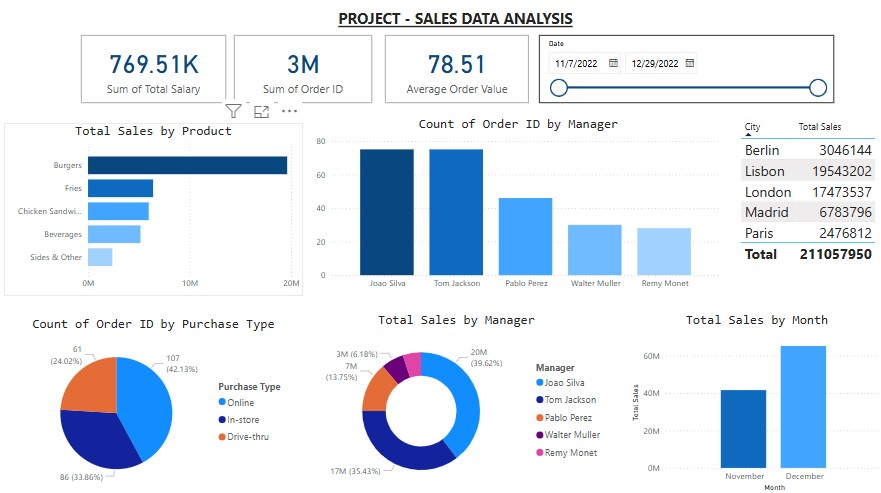

This screenshot's page, from the dashboard's own definition file:
{"tool":"powerbi","page":{"name":"Page 1","canvas":[1280,720],"ordinal":0},"visuals":[{"type":"card","fields":{"Values":["Sum(SalesData.Order ID)"]},"box":[341.3,57.6,198.7,97.9],"z":0},{"type":"card","fields":{"Values":["Sum(SalesData.Total Salary)"]},"box":[121,57.6,208.8,97.9],"z":1000},{"type":"card","fields":{"Values":["SalesData.Average Order Value"]},"box":[558.7,57.6,207.4,97.9],"z":2000},{"type":"barChart","fields":{"Y":["SalesData.Total Sales"],"Category":["SalesData.Product"]},"box":[10.1,184.3,430.6,249.1],"z":3000},{"type":"tableEx","fields":{"Values":["SalesData.City","SalesData.Total Sales"]},"box":[1065.6,174.2,214.6,217.4],"z":4000},{"type":"pieChart","fields":{"Y":["CountNonNull(SalesData.Order ID)"],"Category":["SalesData.Purchase Type"]},"box":[20.2,462.2,410.4,257.8],"z":5000},{"type":"columnChart","fields":{"Category":["SalesData.Manager"],"Y":["CountNonNull(SalesData.Order ID)"]},"box":[455,174.2,591.8,259.2],"z":6000},{"type":"donutChart","fields":{"Y":["SalesData.Total Sales"],"Category":["SalesData.Manager"]},"box":[440.6,456.5,442.1,263.5],"z":7000},{"type":"slicer","fields":{"Values":["SalesData.Date"]},"box":[780.5,57.6,424.8,97.9],"z":8000},{"type":"lineStackedColumnComboChart","fields":{"Y":["SalesData.Total Sales"],"Category":["SalesData.Date.Variation.Date Hierarchy.Month"]},"box":[908.6,456.5,371.5,263.5],"z":9000},{"type":"textbox","box":[226.1,14.4,868.3,43.2],"z":10000}]}

Visuals, with their boxes in screenshot pixels (x1, y1, x2, y2), scaled from the page's 1280x720 canvas onto the 881x493 screenshot:
card - Sum(SalesData.Order ID): l=235, t=39, r=372, b=106
card - Sum(SalesData.Total Salary): l=83, t=39, r=227, b=106
card - SalesData.Average Order Value: l=385, t=39, r=527, b=106
barChart - SalesData.Total Sales x SalesData.Product: l=7, t=126, r=303, b=297
tableEx - SalesData.City x SalesData.Total Sales: l=733, t=119, r=880, b=268
pieChart - CountNonNull(SalesData.Order ID) x SalesData.Purchase Type: l=14, t=316, r=296, b=492
columnChart - SalesData.Manager x CountNonNull(SalesData.Order ID): l=313, t=119, r=720, b=297
donutChart - SalesData.Total Sales x SalesData.Manager: l=303, t=313, r=608, b=492
slicer - SalesData.Date: l=537, t=39, r=830, b=106
lineStackedColumnComboChart - SalesData.Total Sales x SalesData.Date.Variation.Date Hierarchy.Month: l=625, t=313, r=880, b=492
textbox: l=156, t=10, r=753, b=39
